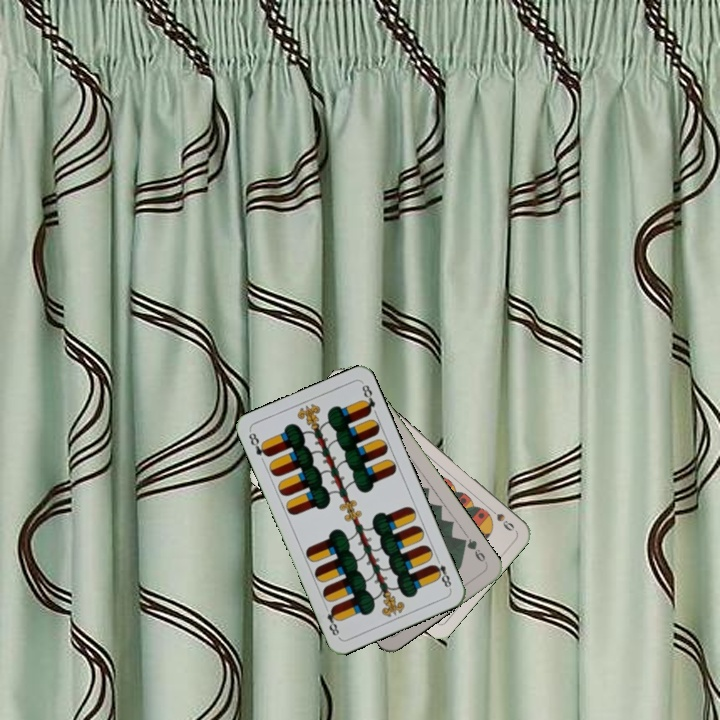E8: (245, 428, 272, 466), (429, 553, 454, 592)
G9: (457, 534, 490, 567)
S9: (484, 503, 517, 534)
